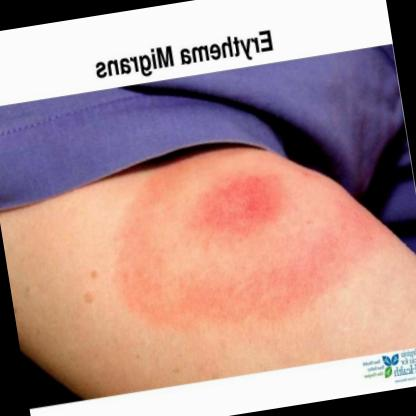Ringworm: (174, 149, 302, 253)
